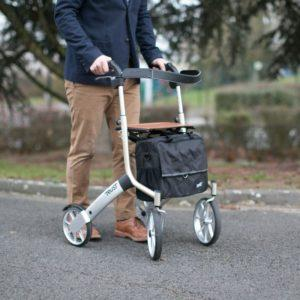walking_frame: (54, 0, 222, 260)
